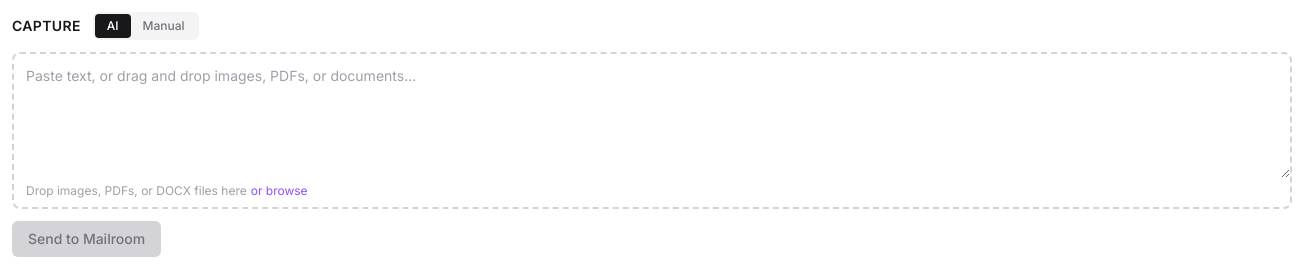
CaptureInput › enables submit when text is entered
In the text box with placeholder "Paste text, or drag and drop images, PDFs, or documents...": point(652, 116) [14,54,1290,178], type "Some content"
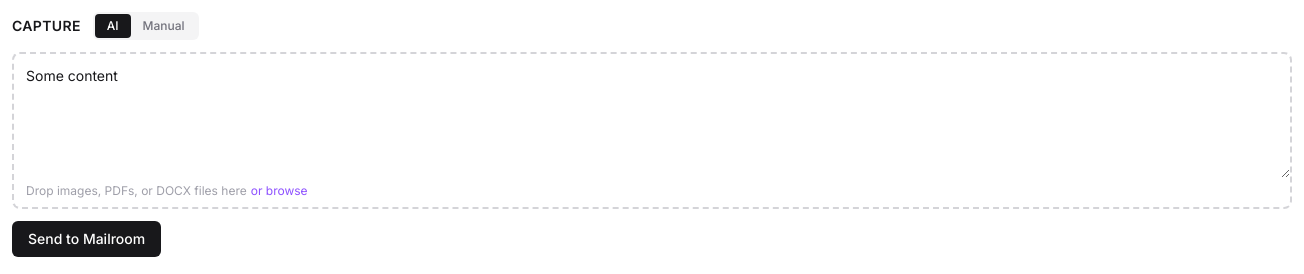
Expected: the button "Send to Mailroom" is enabled, [12,221,161,257]
